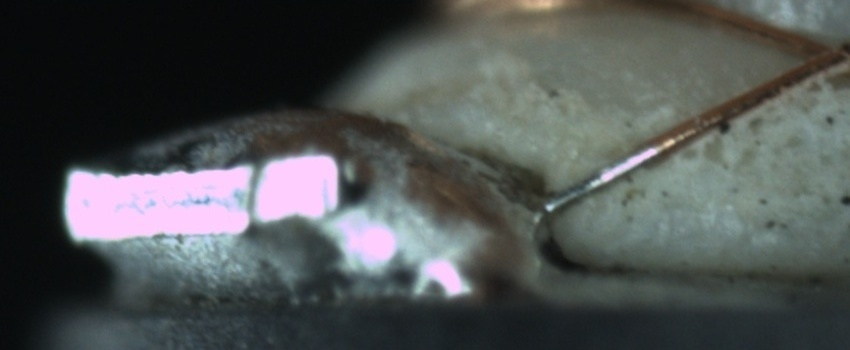CL: (779, 21, 849, 92)
TS: (542, 143, 658, 215)
